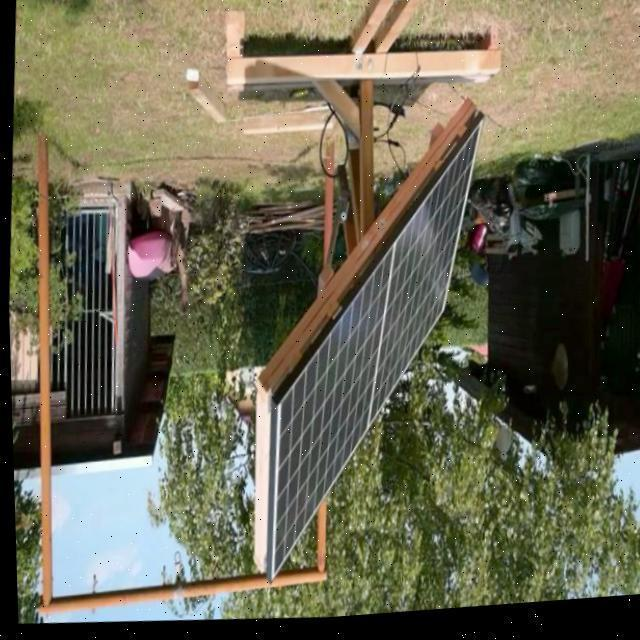Normal Solar Panel: (254, 115, 494, 586)
